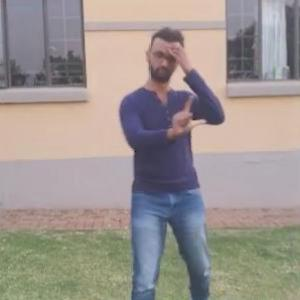land_hand: (167, 91, 207, 142)
